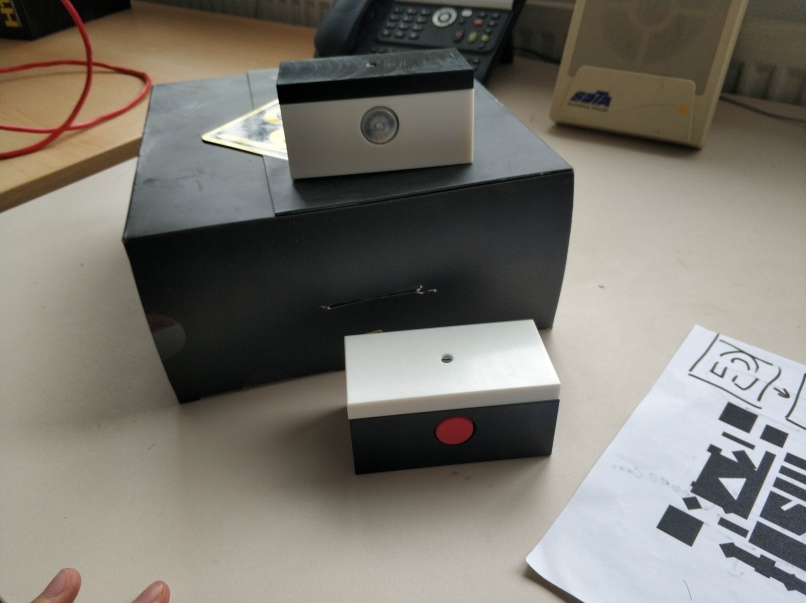black+white+silver: (276, 44, 478, 183)
white+black+red: (343, 316, 561, 477)
